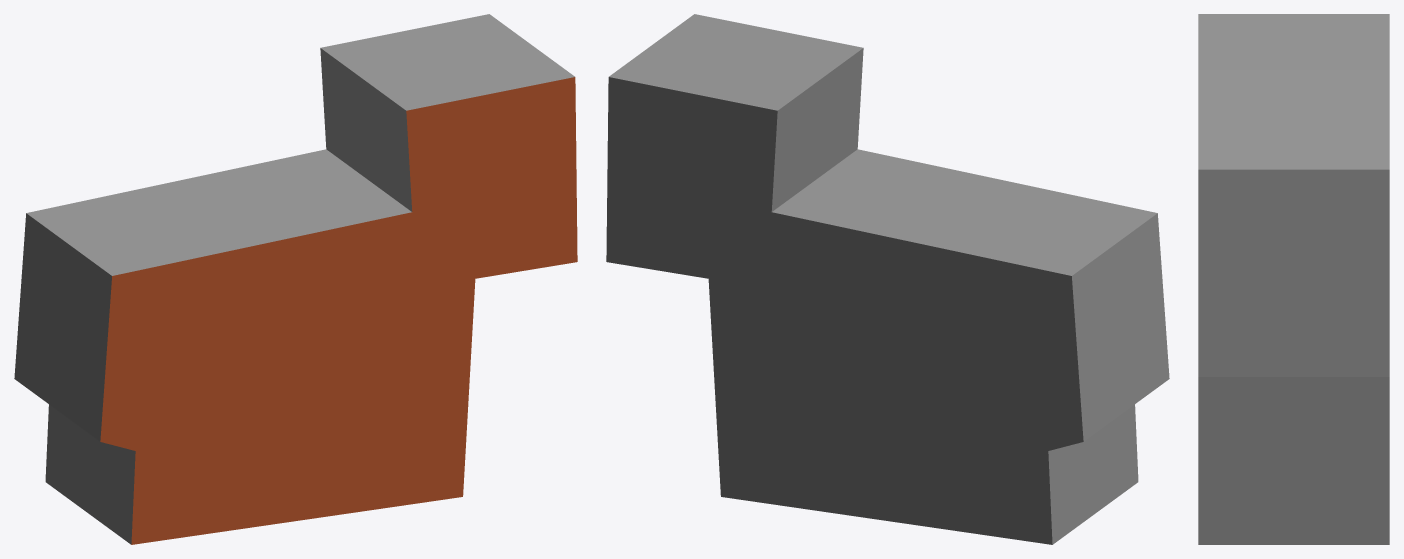
File: construction_2543_assumed_A_Casa_h6m.obj
3 renders of one model, left to right at view 1: azimuth 30°, elevation 25°; view 2: azimuth 150°, elevation 25°; view 3: azimuth 270°, elevation 25°, orthographic. The views are drawn at different scales.
Visible parts, largest first — view 1: construction_2543_assumed_A_Casa; view 2: construction_2543_assumed_A_Casa; view 3: construction_2543_assumed_A_Casa.
Boxes of the visible parts, x1=… form: construction_2543_assumed_A_Casa: x1=14, y1=14, x2=577, y2=544; construction_2543_assumed_A_Casa: x1=606, y1=14, x2=1169, y2=544; construction_2543_assumed_A_Casa: x1=1198, y1=14, x2=1389, y2=544.
Bounding box in the file's own units: 19.23 × 15.4 × 6.
